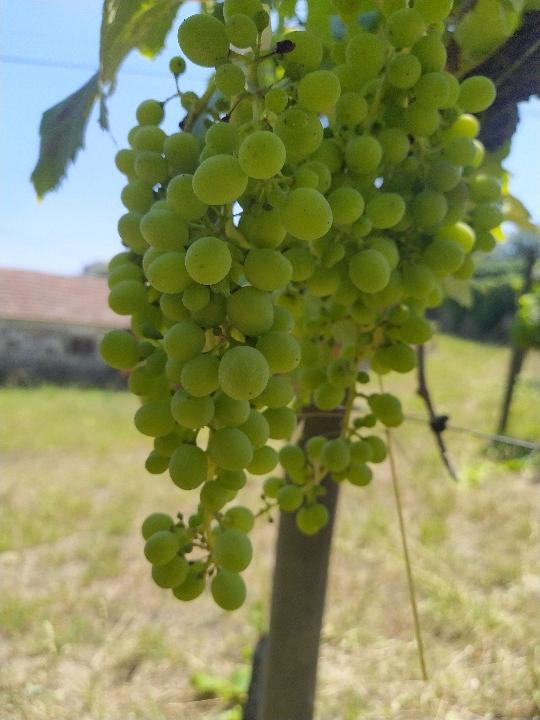grape: (97, 3, 504, 613)
